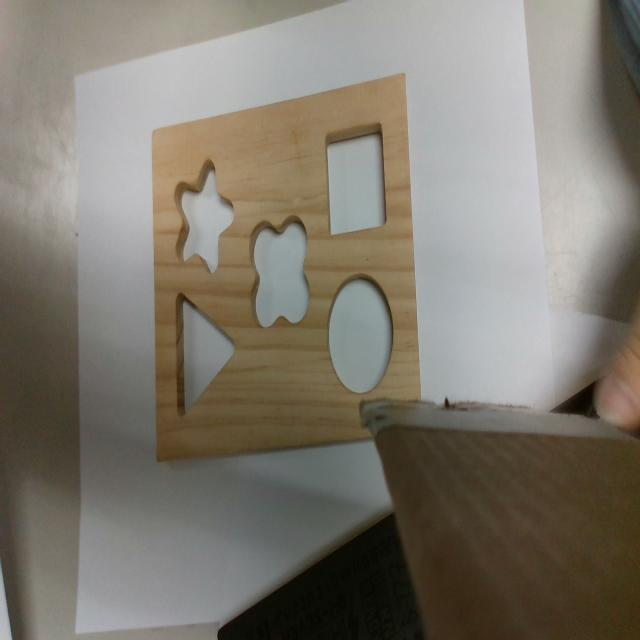circle: (326, 275, 397, 397)
flower: (248, 210, 308, 328)
square: (322, 121, 388, 237)
star: (177, 159, 234, 270)
triangle: (174, 288, 238, 418)
